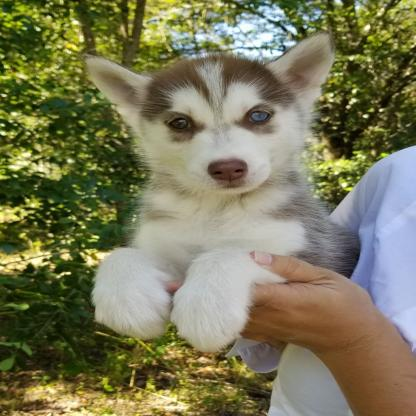dog: (75, 33, 350, 352)
